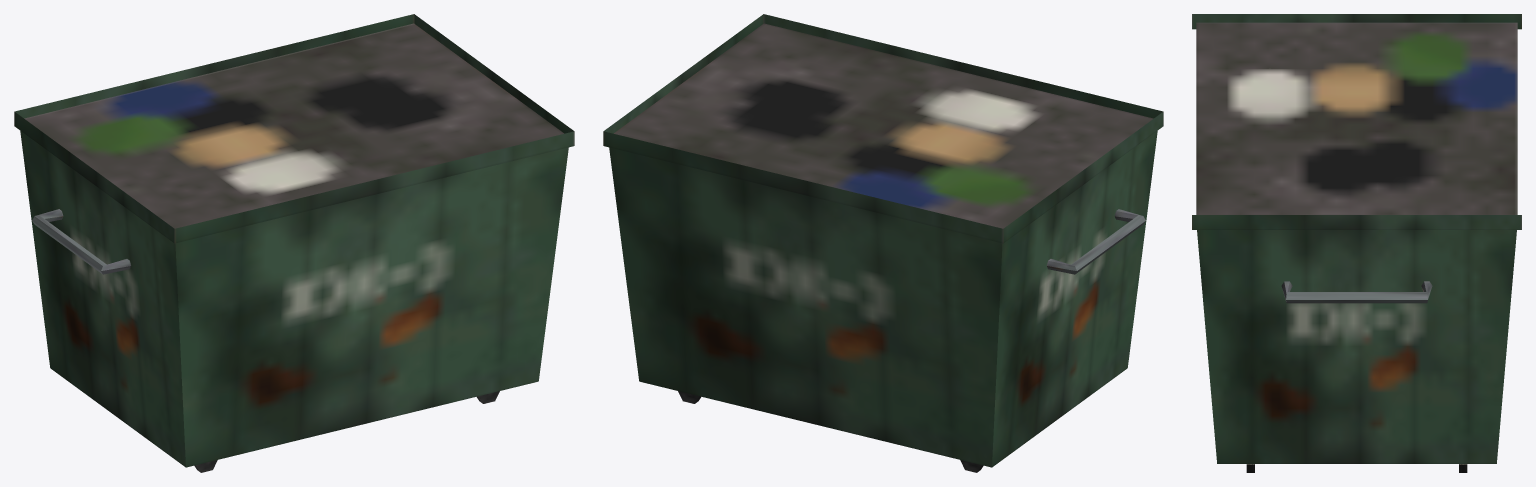
Rendered from bin_container.fbx.
The picture shows the model from 3 angles, left to right: view 1: azimuth 30°, elevation 25°; view 2: azimuth 150°, elevation 25°; view 3: azimuth 270°, elevation 25°; orthographic projection. The views are drawn at different scales.
Visible parts, largest first — view 1: bin_container; view 2: bin_container; view 3: bin_container.
Part boxes in pixels (x1,y1,x2,y2): bin_container: (14, 14, 574, 472); bin_container: (603, 14, 1163, 472); bin_container: (1192, 14, 1521, 472).
Size of the model in its own units: 1.94 by 1.12 by 1.18.
